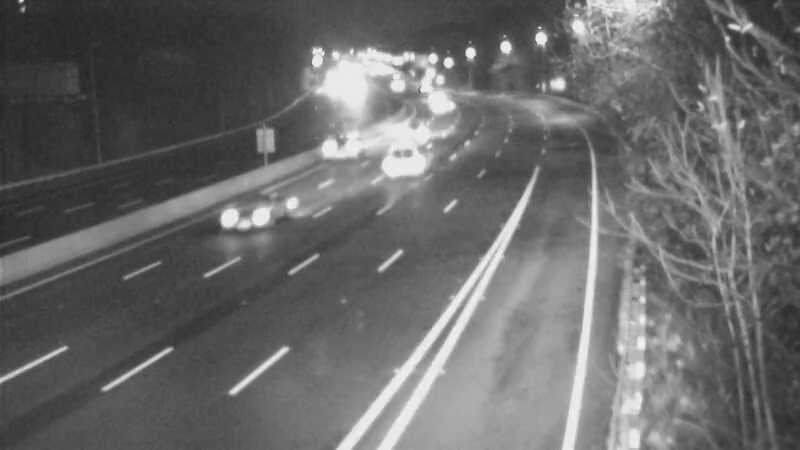vehicle: (367, 120, 447, 200), (207, 181, 287, 261), (413, 76, 463, 126), (367, 102, 417, 152), (400, 103, 450, 153), (317, 123, 367, 173)
